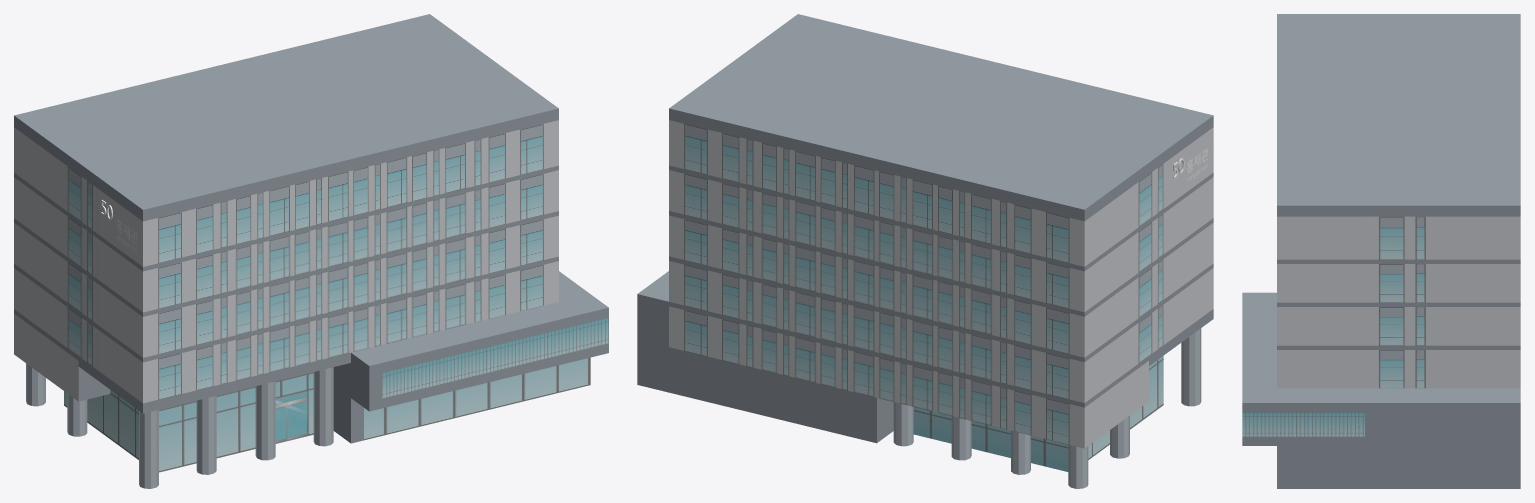
The model's file is building_hongjae.glb.
The picture shows the model from 3 angles, left to right: view 1: azimuth 30°, elevation 25°; view 2: azimuth 150°, elevation 25°; view 3: azimuth 270°, elevation 25°; orthographic projection. The views are drawn at different scales.
Size of the model in its own units: 2.37 by 1.43 by 1.35.
Materials: 1 (1 with a texture image).
